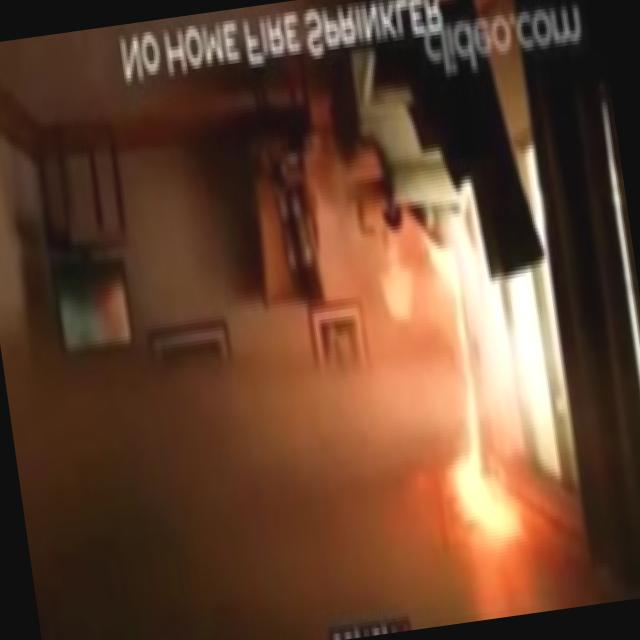fire: (388, 234, 542, 616)
